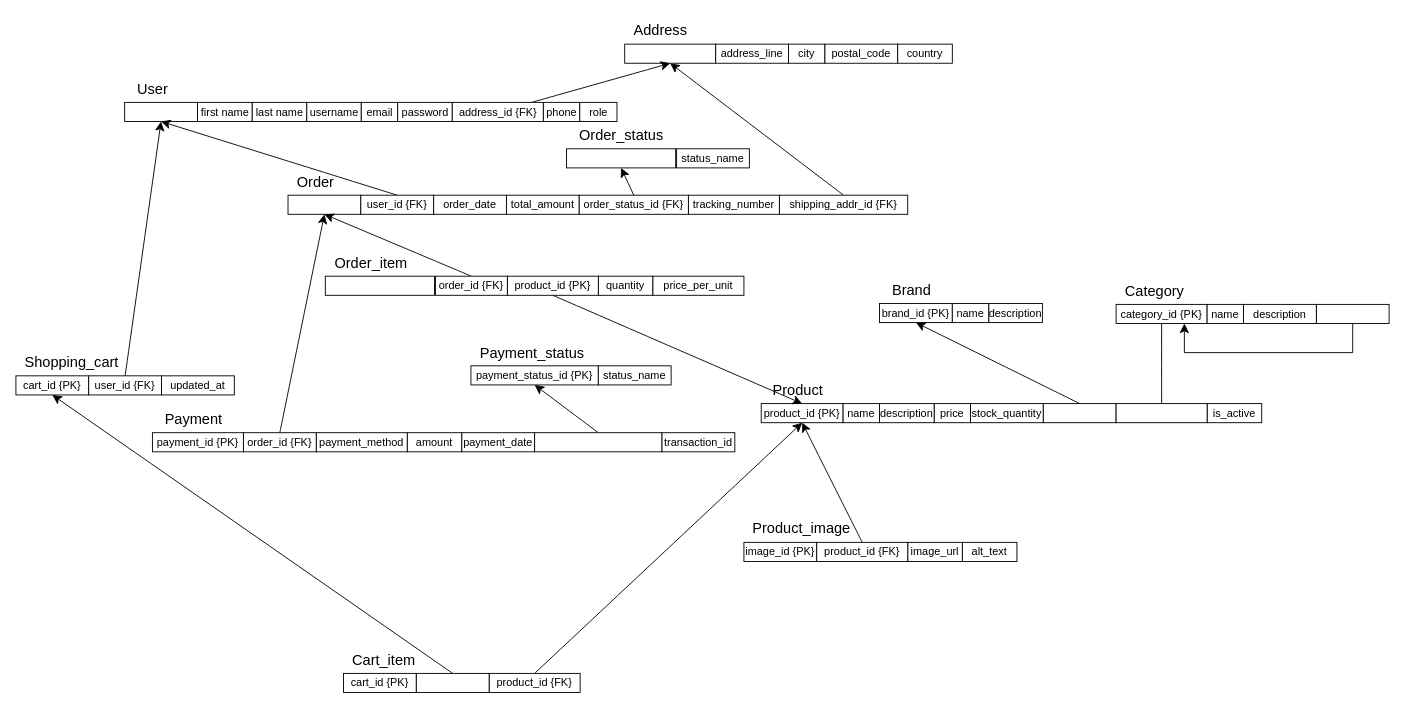
This 1405x708 diagram has some shape labels left out. Here are the shapes that lost their labels. From the top down, the centre of each, then its label:
point 670,53: address_id {PK}
point 160,111: user_id {PK}
point 621,158: order_status_id {PK}
point 324,204: order_id {PK}
point 379,285: order_item_id {PK}
point 1352,313: parent_id {FK}
point 1079,413: brand_id {FK}
point 1161,413: category_id {FK}
point 598,442: payment_status_id {FK}
point 452,682: cart_id {FK}
